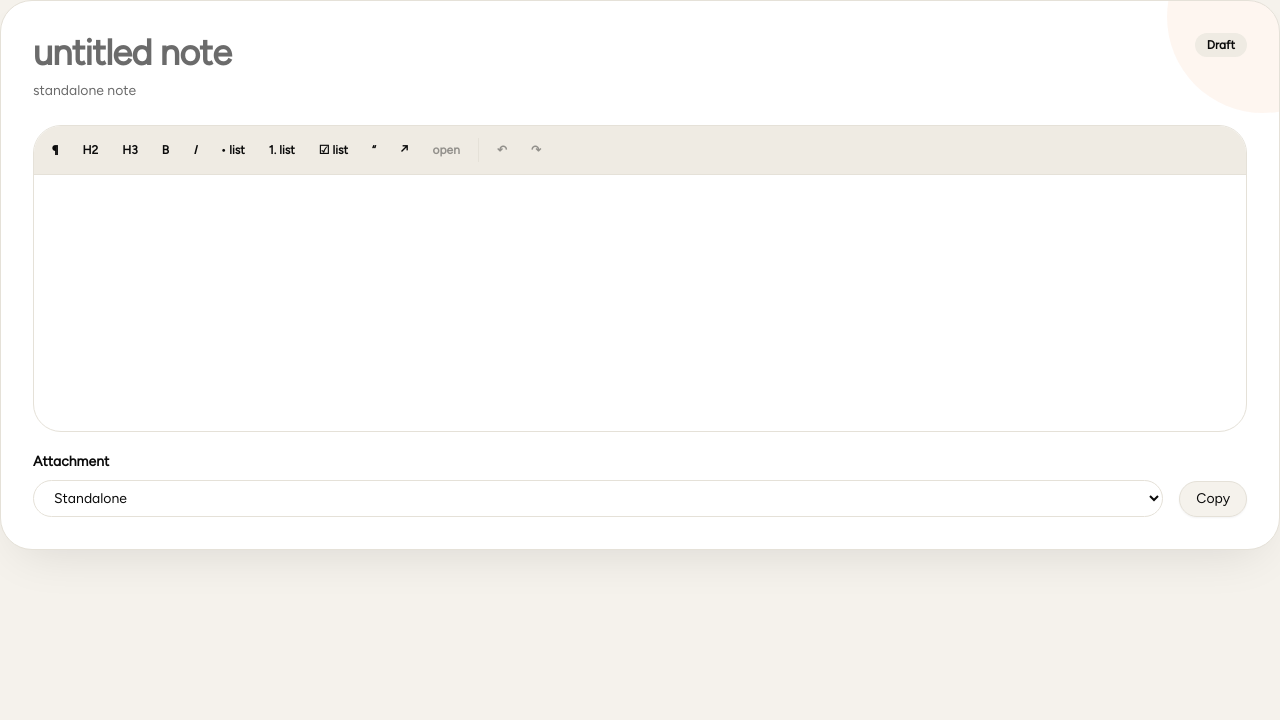
NoteEditor › captures a draft and creates once after the 750ms quiet period
The image size is (1280, 720).
Type "first title" into the field named "Note title" at (606, 53), box [33,33,1179,73]
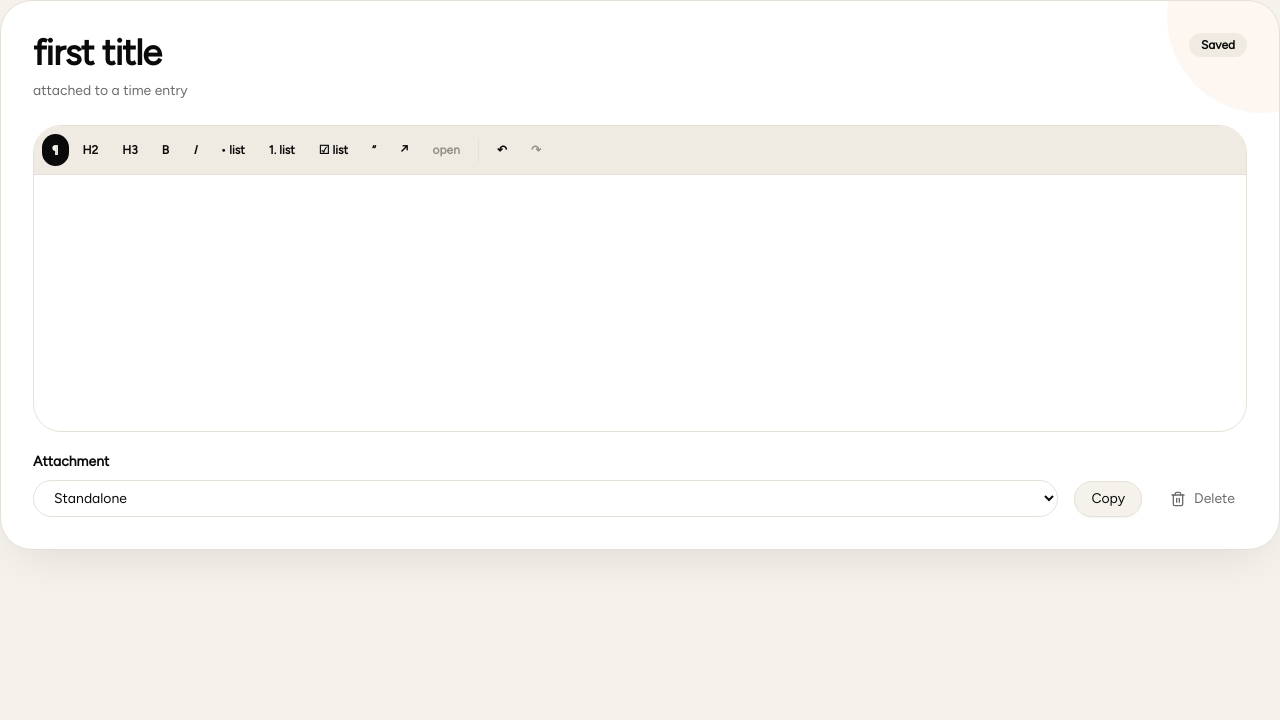
Expected: the message reads "Saved", [1201,38,1235,52]
